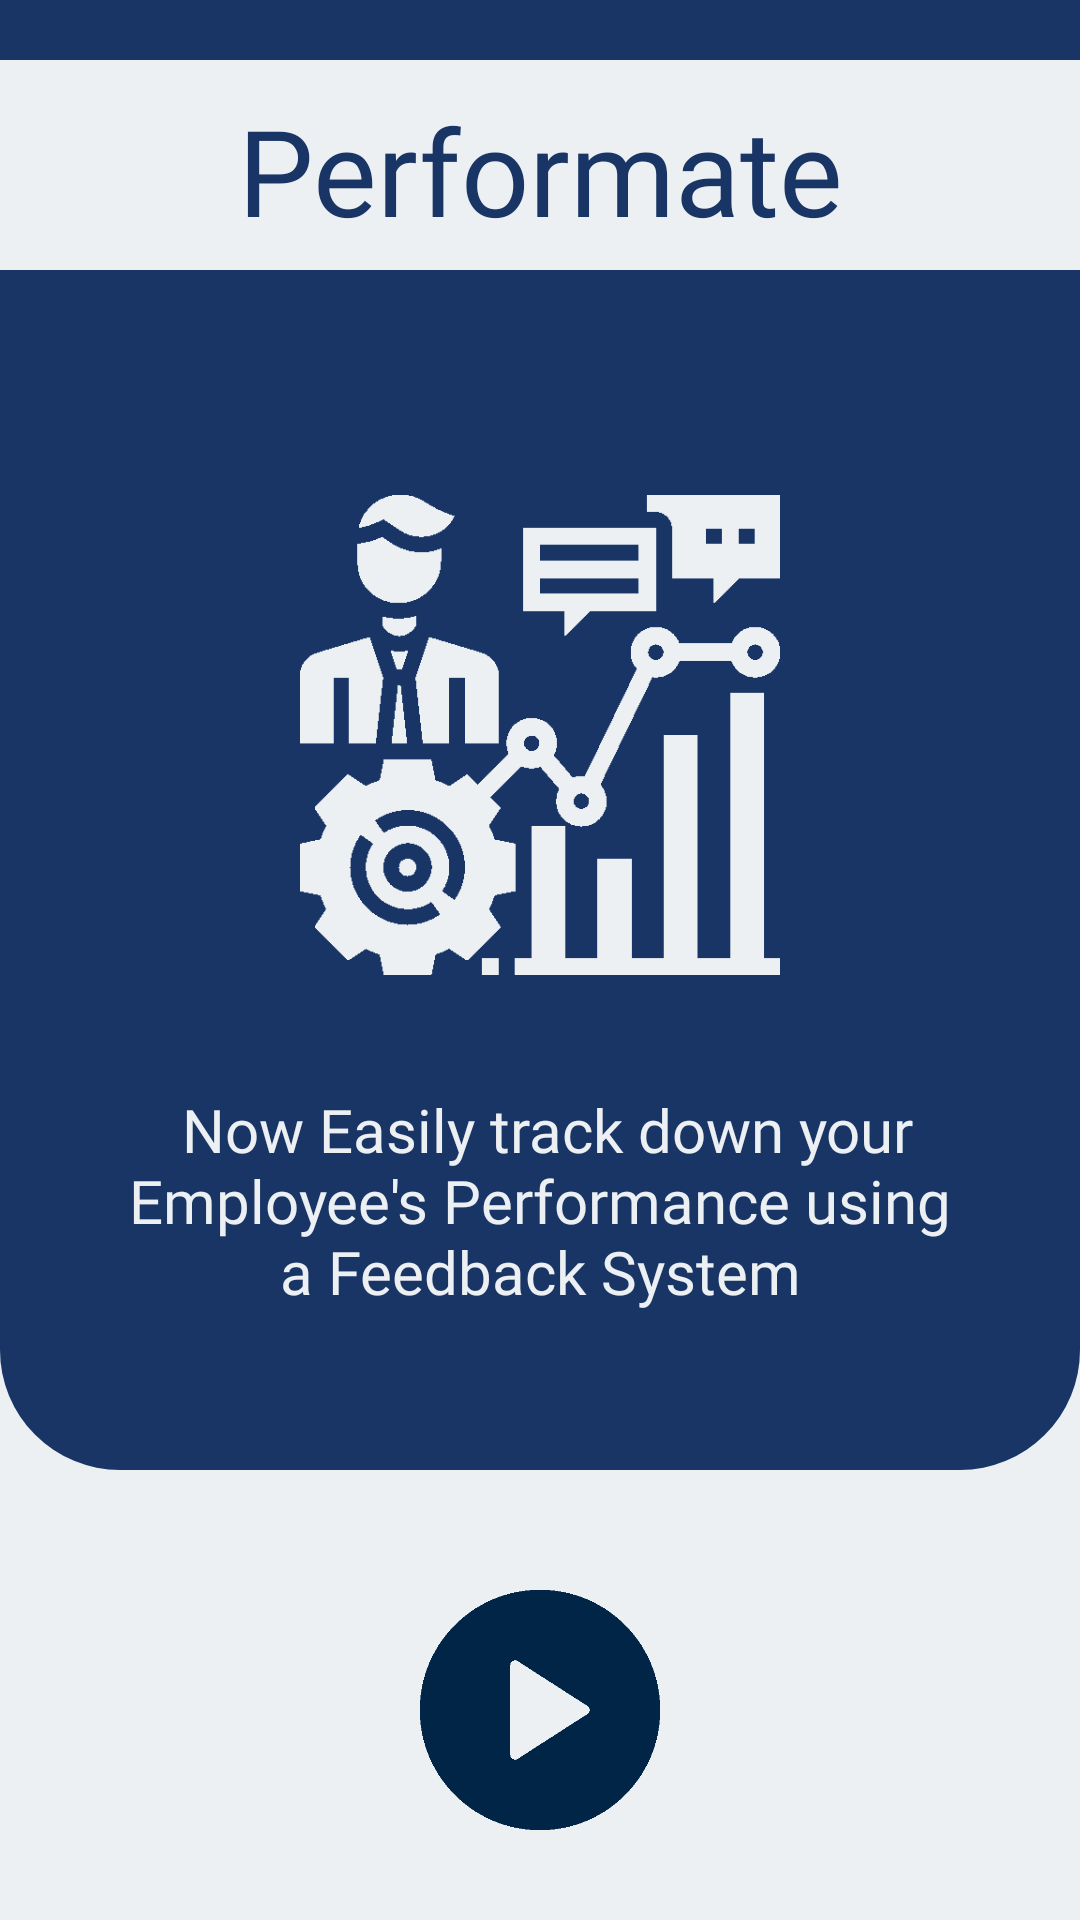

Where to tap for icons on this 1080px×1920px app screen, as (x,y):
playbutton: (540,1710)
